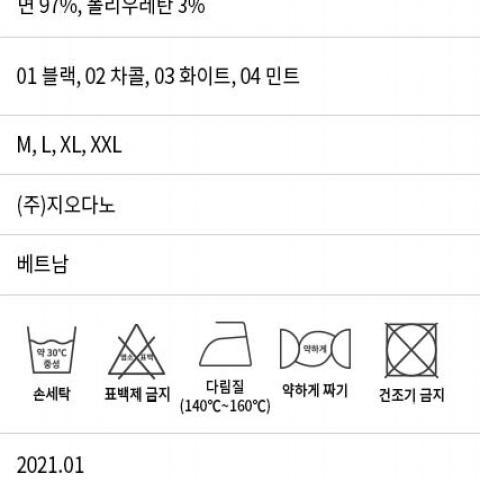30C: (23, 318, 82, 377)
DN_tumble_dry: (379, 318, 442, 382)
iron: (197, 314, 260, 373)
non_chlorine_bleach: (108, 320, 168, 379)
wring: (273, 321, 359, 374)
